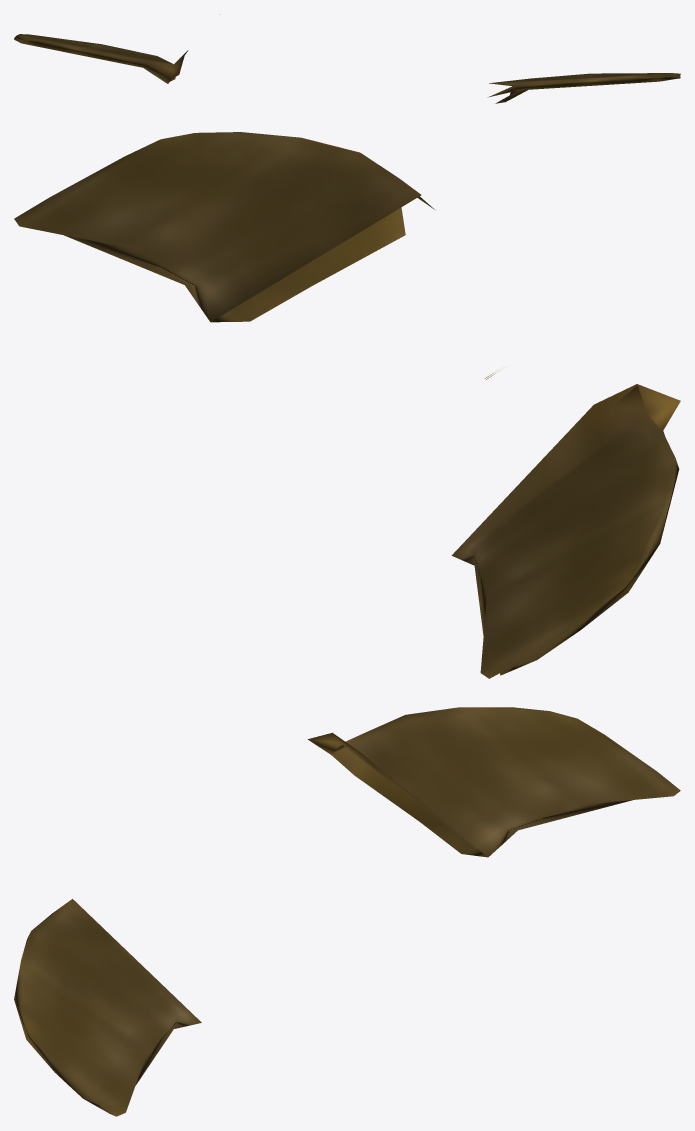
The model's file is ducklingWings.obj.
3 renders of one model, top to bottom at view 1: azimuth 30°, elevation 25°; view 2: azimuth 150°, elevation 25°; view 3: azimuth 270°, elevation 25°, orthographic. The views are drawn at different scales.
Parts seen in each view (by area): view 1: ducklingWings; view 2: ducklingWings; view 3: ducklingWings.
Boxes of the visible parts, left/top/right/bottom form: ducklingWings: left=14, top=34, right=680, bottom=103; ducklingWings: left=14, top=132, right=680, bottom=678; ducklingWings: left=14, top=707, right=680, bottom=1116.
Size of the model in its own units: 0.6482 by 0.1032 by 0.5314.
